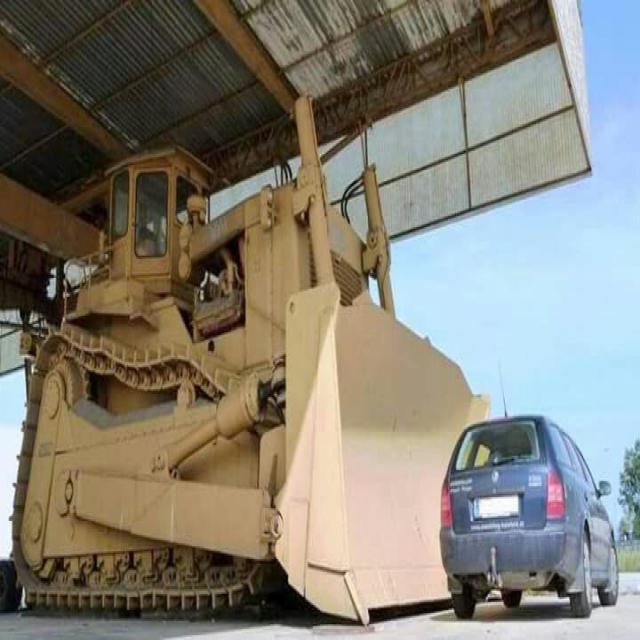buldozerpayloadergrader: (17, 124, 504, 622)
light_vehicle: (436, 400, 625, 632)
